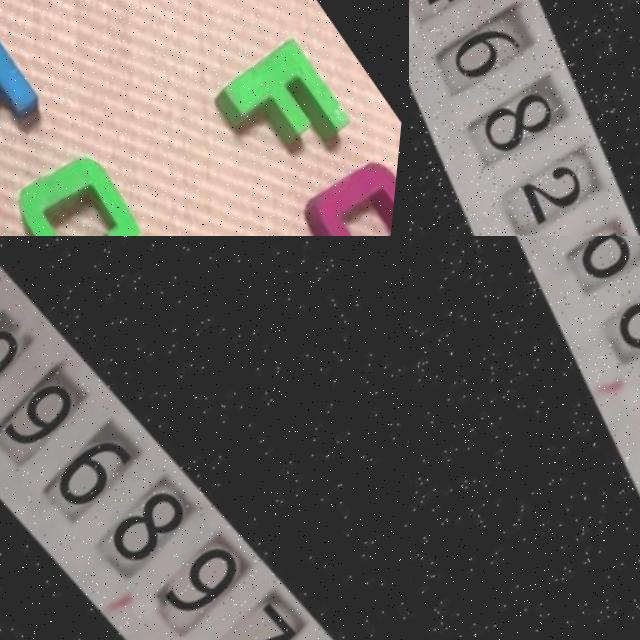0: (0, 304, 46, 412)
2: (497, 135, 623, 236)
4: (409, 0, 514, 33)
5: (532, 204, 640, 236)
6: (32, 414, 161, 534), (429, 0, 550, 106), (545, 236, 640, 323)
7: (201, 586, 326, 640)
8: (457, 63, 588, 185), (92, 471, 217, 588), (588, 249, 640, 389)
9: (147, 526, 271, 640), (0, 360, 102, 470)
C: (2, 140, 169, 236)
F: (208, 40, 365, 198)
O: (292, 156, 403, 236)
T: (0, 7, 52, 168)
